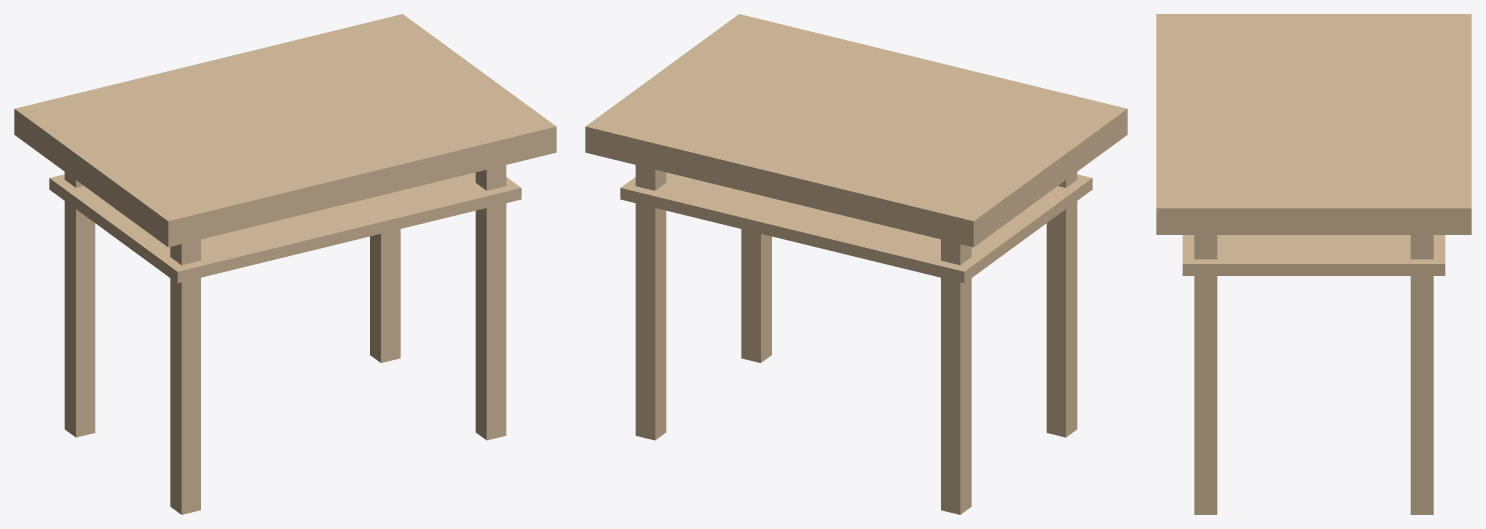
The model's file is child-desk.glb.
The picture shows the model from 3 angles, left to right: view 1: azimuth 30°, elevation 25°; view 2: azimuth 150°, elevation 25°; view 3: azimuth 270°, elevation 25°; orthographic projection. The views are drawn at different scales.
Parts seen in each view (by area): view 1: root; view 2: root; view 3: root.
Boxes of the visible parts, <box> form: root: <box>14,14,556,514</box>; root: <box>585,14,1127,514</box>; root: <box>1156,14,1471,514</box>.
Bounding box in the file's own units: 0.7 × 0.5425 × 0.48.
